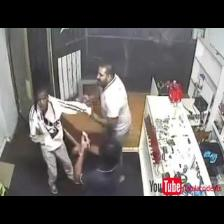person: (30, 87, 91, 193), (91, 63, 131, 146), (74, 134, 121, 195)
